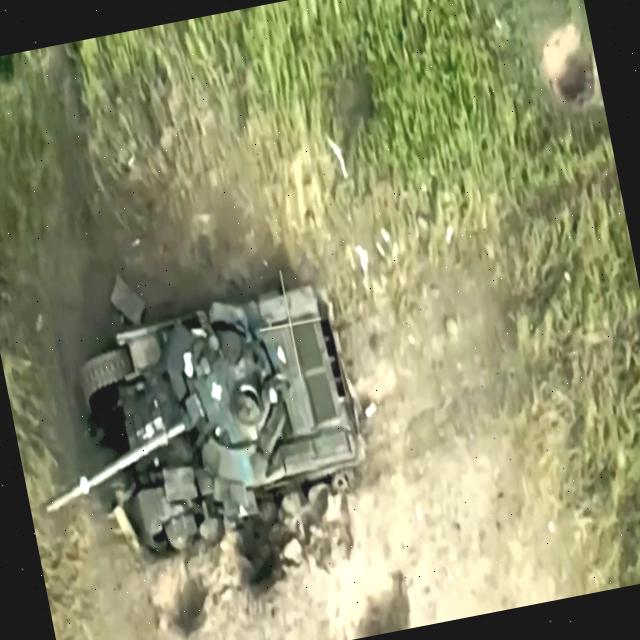MBT: (12, 265, 391, 578)
